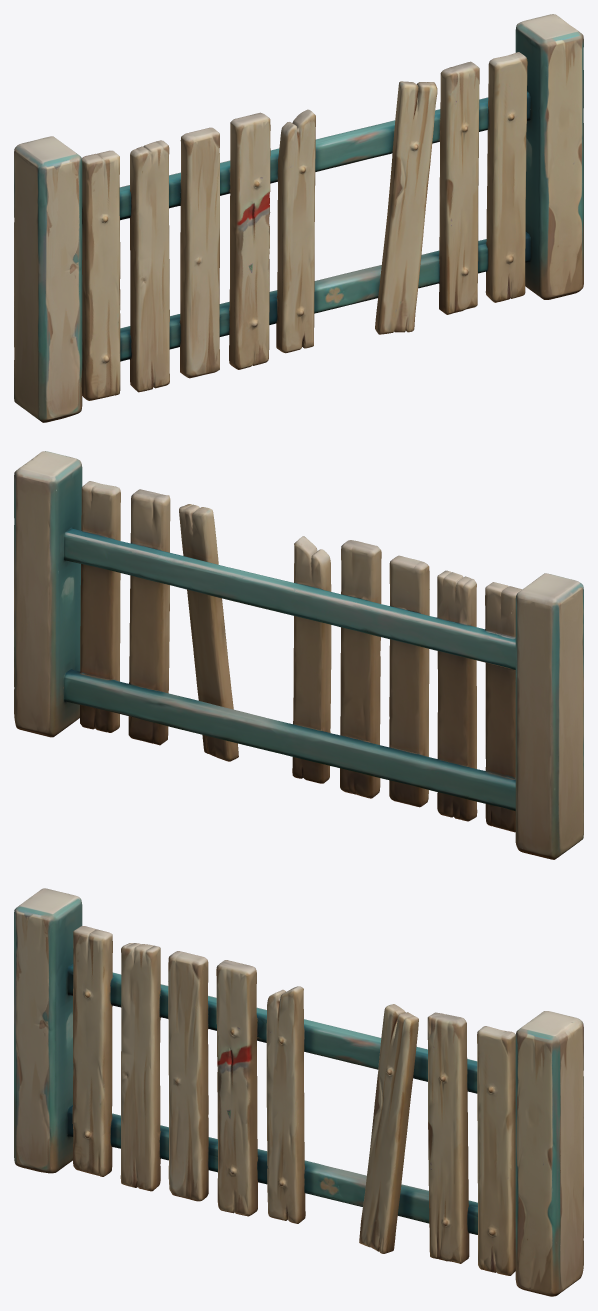
File: fence_wood_2.glb
3 views of the same model, one above another, from view 1: azimuth 30°, elevation 25°; view 2: azimuth 150°, elevation 25°; view 3: azimuth 330°, elevation 25° (orthographic).
Parts seen in each view (by area): view 1: tripo_part_0, tripo_part_1, tripo_part_6, tripo_part_2, tripo_part_11, tripo_part_9, tripo_part_8, tripo_part_5, tripo_part_10, tripo_part_7, tripo_part_3, tripo_part_4; view 2: tripo_part_0, tripo_part_1, tripo_part_3, tripo_part_4, tripo_part_6, tripo_part_9, tripo_part_5, tripo_part_11, tripo_part_8, tripo_part_7, tripo_part_2, tripo_part_10; view 3: tripo_part_1, tripo_part_0, tripo_part_6, tripo_part_9, tripo_part_11, tripo_part_8, tripo_part_10, tripo_part_5, tripo_part_7, tripo_part_2, tripo_part_3, tripo_part_4.
Boxes of the visible parts, x1=… form: tripo_part_0: x1=14, y1=136, x2=82, y2=422; tripo_part_1: x1=515, y1=14, x2=583, y2=299; tripo_part_6: x1=229, y1=112, x2=270, y2=369; tripo_part_2: x1=375, y1=81, x2=437, y2=334; tripo_part_11: x1=179, y1=127, x2=219, y2=378; tripo_part_9: x1=438, y1=61, x2=479, y2=314; tripo_part_8: x1=129, y1=140, x2=169, y2=392; tripo_part_5: x1=485, y1=52, x2=527, y2=302; tripo_part_10: x1=81, y1=150, x2=120, y2=400; tripo_part_7: x1=276, y1=109, x2=315, y2=353; tripo_part_3: x1=120, y1=232, x2=530, y2=361; tripo_part_4: x1=82, y1=91, x2=530, y2=223; tripo_part_0: x1=515, y1=573, x2=583, y2=859; tripo_part_1: x1=14, y1=451, x2=82, y2=737; tripo_part_3: x1=63, y1=669, x2=515, y2=810; tripo_part_4: x1=64, y1=528, x2=515, y2=669; tripo_part_6: x1=340, y1=540, x2=381, y2=798; tripo_part_9: x1=128, y1=489, x2=170, y2=745; tripo_part_5: x1=80, y1=481, x2=120, y2=732; tripo_part_11: x1=389, y1=555, x2=429, y2=807; tripo_part_8: x1=436, y1=570, x2=477, y2=821; tripo_part_7: x1=292, y1=536, x2=331, y2=783; tripo_part_2: x1=179, y1=504, x2=238, y2=761; tripo_part_10: x1=485, y1=582, x2=521, y2=832; tripo_part_1: x1=515, y1=1011, x2=583, y2=1296; tripo_part_0: x1=14, y1=888, x2=82, y2=1173; tripo_part_6: x1=216, y1=960, x2=264, y2=1216; tripo_part_9: x1=427, y1=1012, x2=469, y2=1263; tripo_part_11: x1=168, y1=951, x2=208, y2=1201; tripo_part_8: x1=120, y1=943, x2=161, y2=1191; tripo_part_10: x1=72, y1=926, x2=112, y2=1176; tripo_part_5: x1=477, y1=1026, x2=515, y2=1275; tripo_part_7: x1=266, y1=986, x2=305, y2=1223; tripo_part_2: x1=359, y1=1004, x2=418, y2=1253; tripo_part_3: x1=67, y1=1105, x2=477, y2=1234; tripo_part_4: x1=67, y1=964, x2=477, y2=1093.
Size of the model in its own units: 0.9793 by 0.4484 by 0.0952.
Materials: 1 (1 with a texture image).
